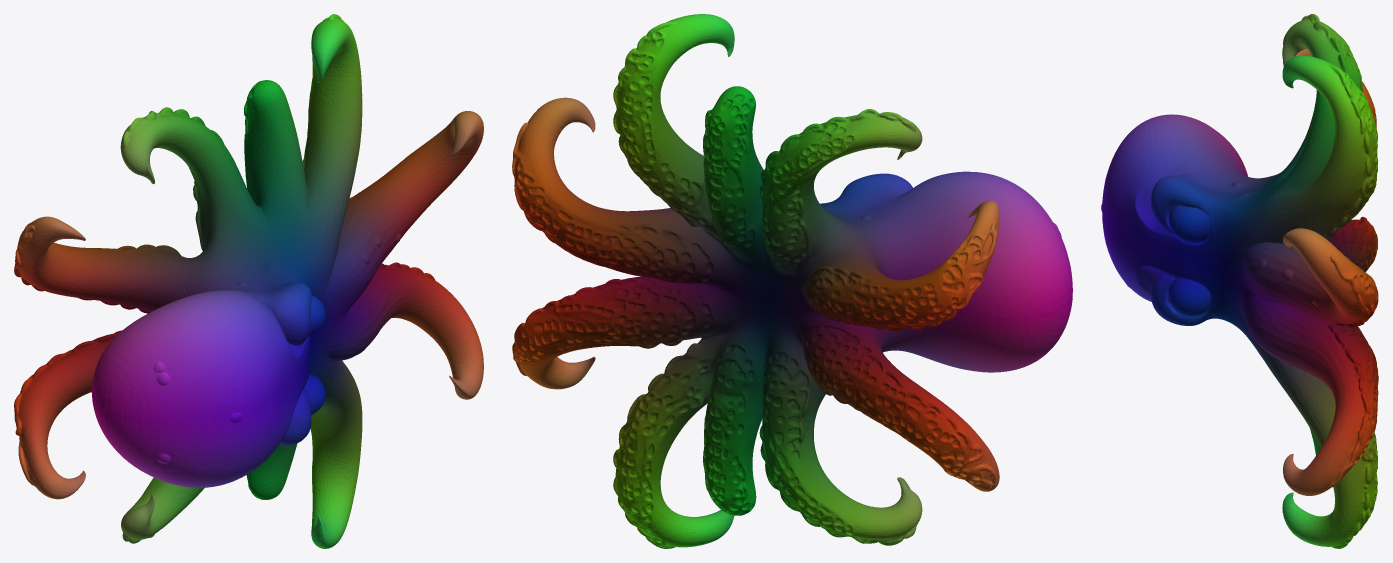
File: Octopus.obj
3 views of the same model, side by side, from view 1: azimuth 30°, elevation 25°; view 2: azimuth 150°, elevation 25°; view 3: azimuth 270°, elevation 25° (orthographic). The views are drawn at different scales.
Bounding box in the file's own units: 1.77 × 1.9 × 0.987.
